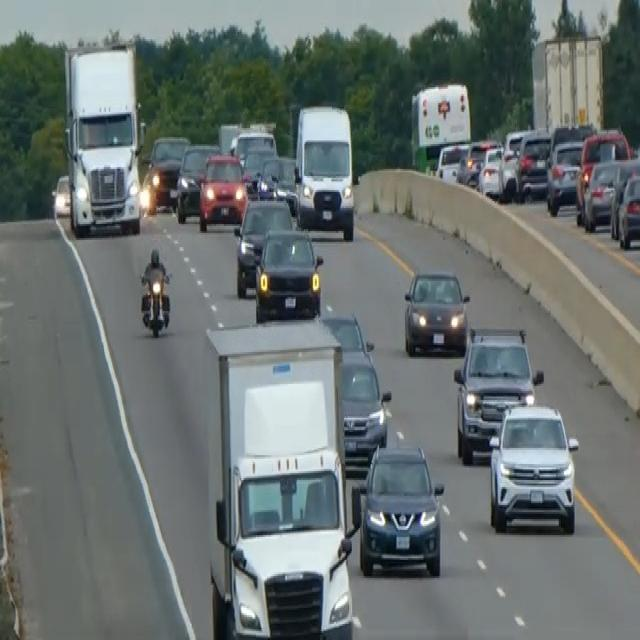car: (352, 441, 445, 578), (452, 324, 543, 464), (254, 226, 323, 322), (337, 346, 391, 466), (233, 194, 293, 297), (402, 266, 469, 356), (574, 128, 631, 222), (198, 149, 248, 231), (142, 134, 190, 214), (175, 140, 220, 222), (545, 137, 584, 215), (229, 126, 278, 185), (582, 157, 621, 231), (319, 309, 374, 359), (515, 128, 551, 201), (257, 153, 298, 215), (477, 142, 517, 201), (458, 137, 499, 187), (616, 171, 639, 249), (435, 141, 469, 183), (52, 172, 71, 218)
jeep: (486, 398, 580, 537)
lorry: (62, 39, 144, 237)
minibus: (292, 100, 357, 240)
motorcycle: (138, 260, 172, 338)
truck: (203, 316, 357, 638)
